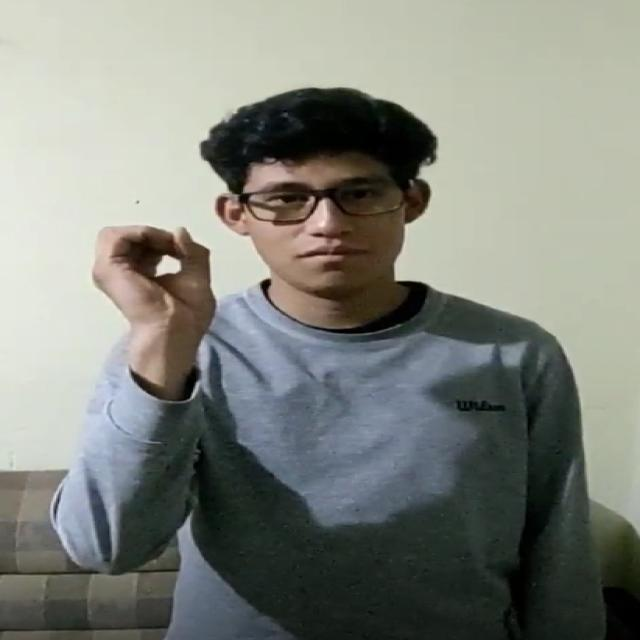O: (73, 216, 244, 351)
